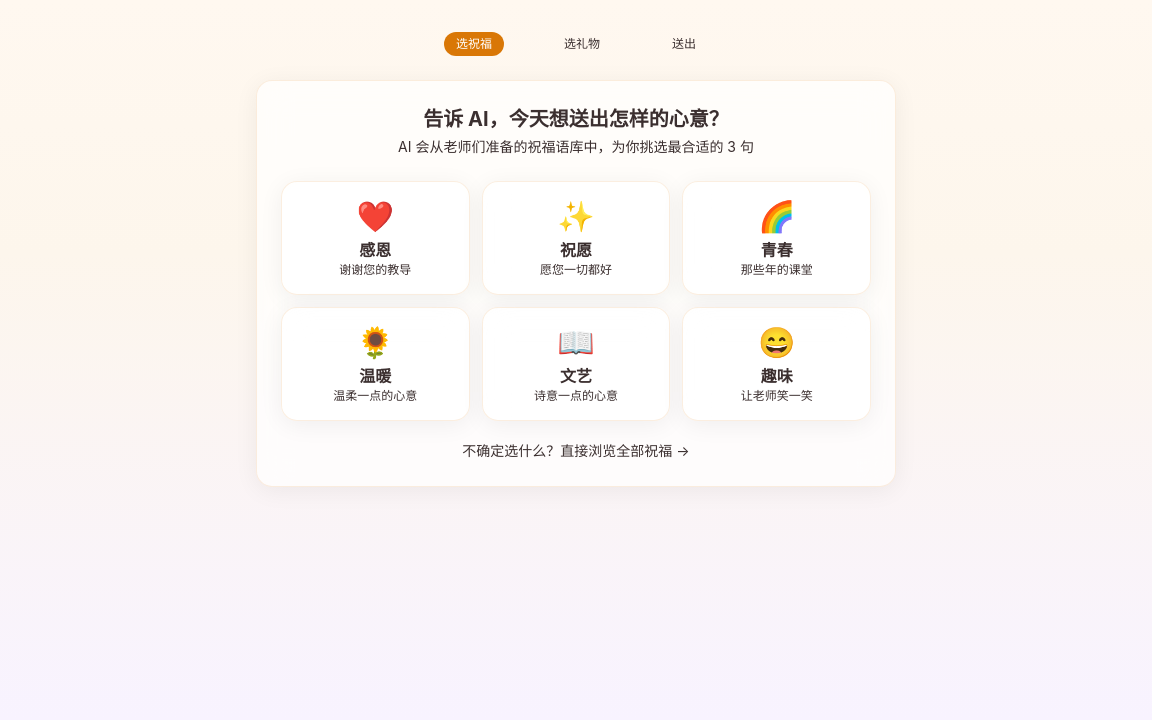
GiftFlow 状态机 › AI 推荐失败 → 降级提示可见，分类浏览仍可用
The width and height of the screenshot is (1152, 720).
Step 1. Click the button "❤️ 感恩 谢谢您的教导" → {"x": 375, "y": 238}, box [281,181,470,295]
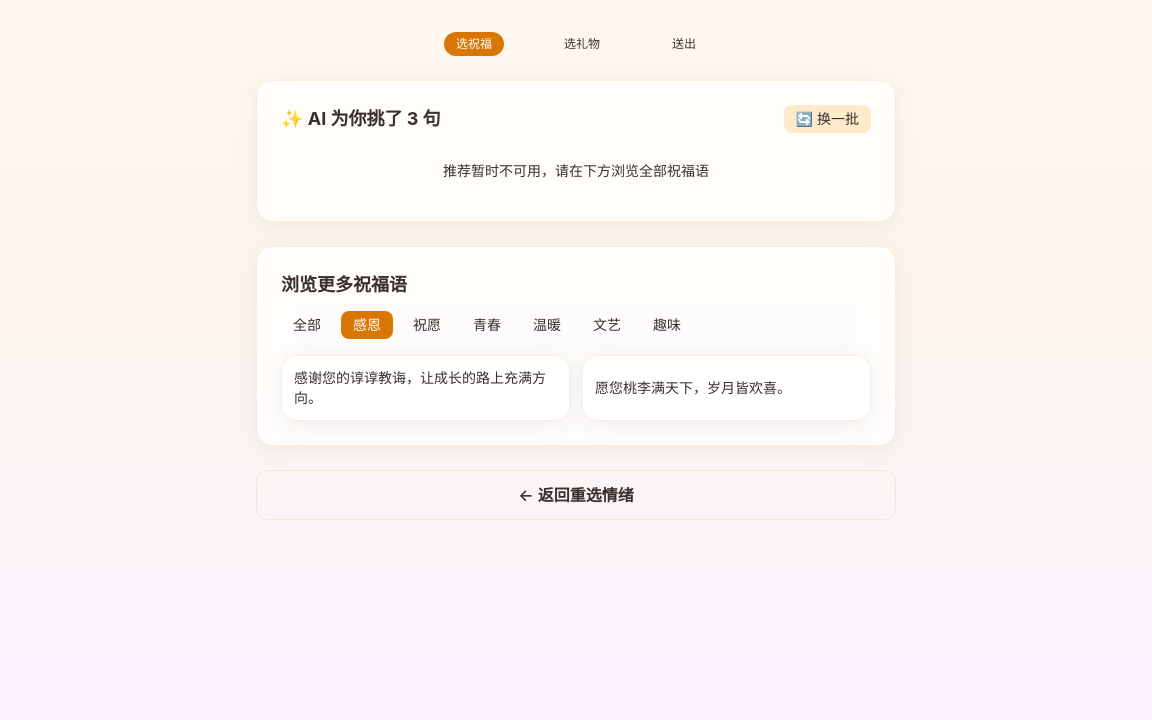
Expected: the text "推荐暂时不可用，请在下方浏览全部祝福语" is shown, [443,162,709,179]
Expected: the button "感谢您的谆谆教诲，让成长的路上充满方向。" is shown, [281,355,570,421]
